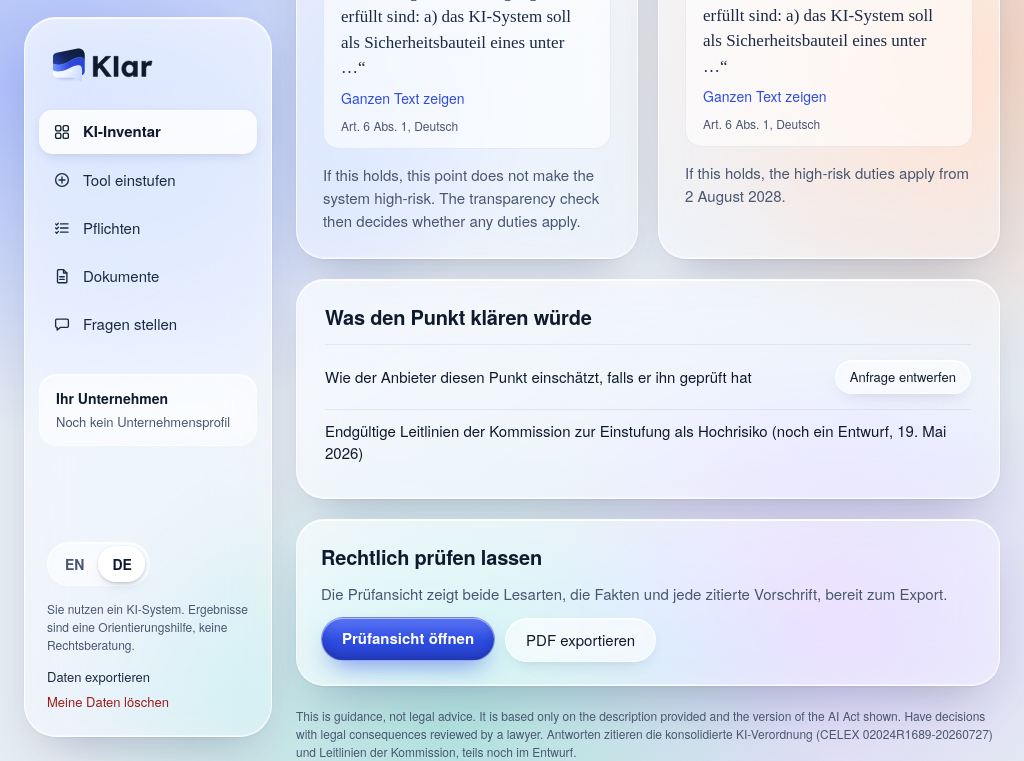
A legally ambiguous result (de) › says when the request couldn’t be drafted
(page scrolled)
Step 1. Click the button "Anfrage entwerfen" → (903, 377), box [835,360,971,394]
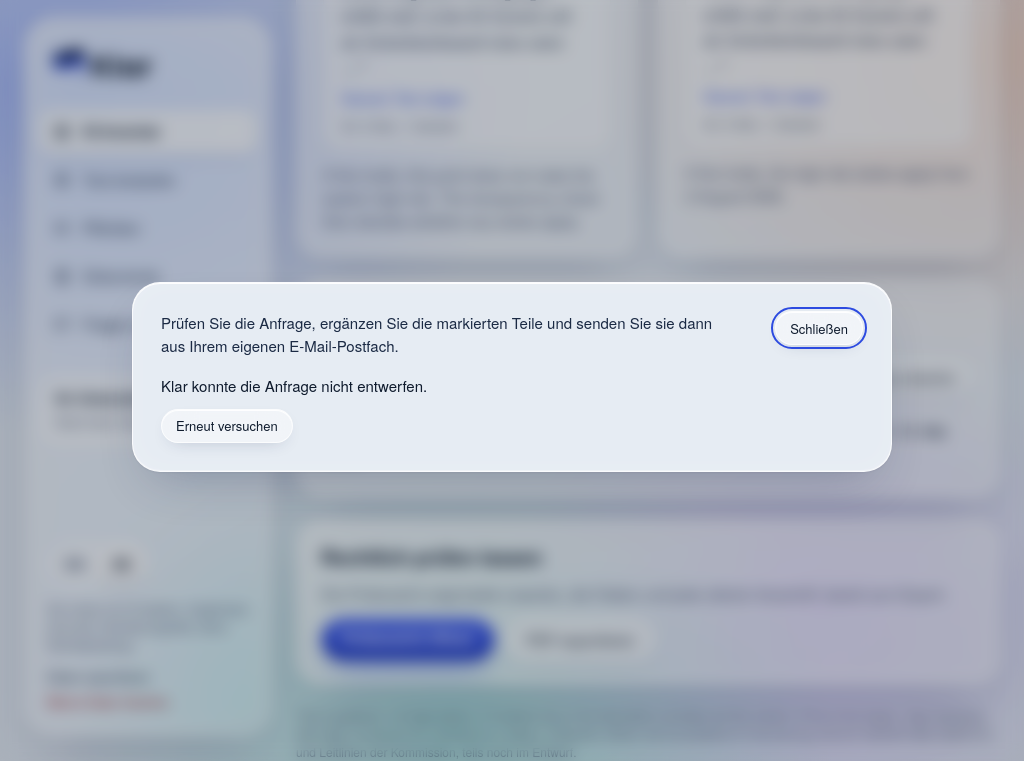
Expected: the text "Klar konnte die Anfrage nicht entwerfen." is shown, [161,374,427,397]
